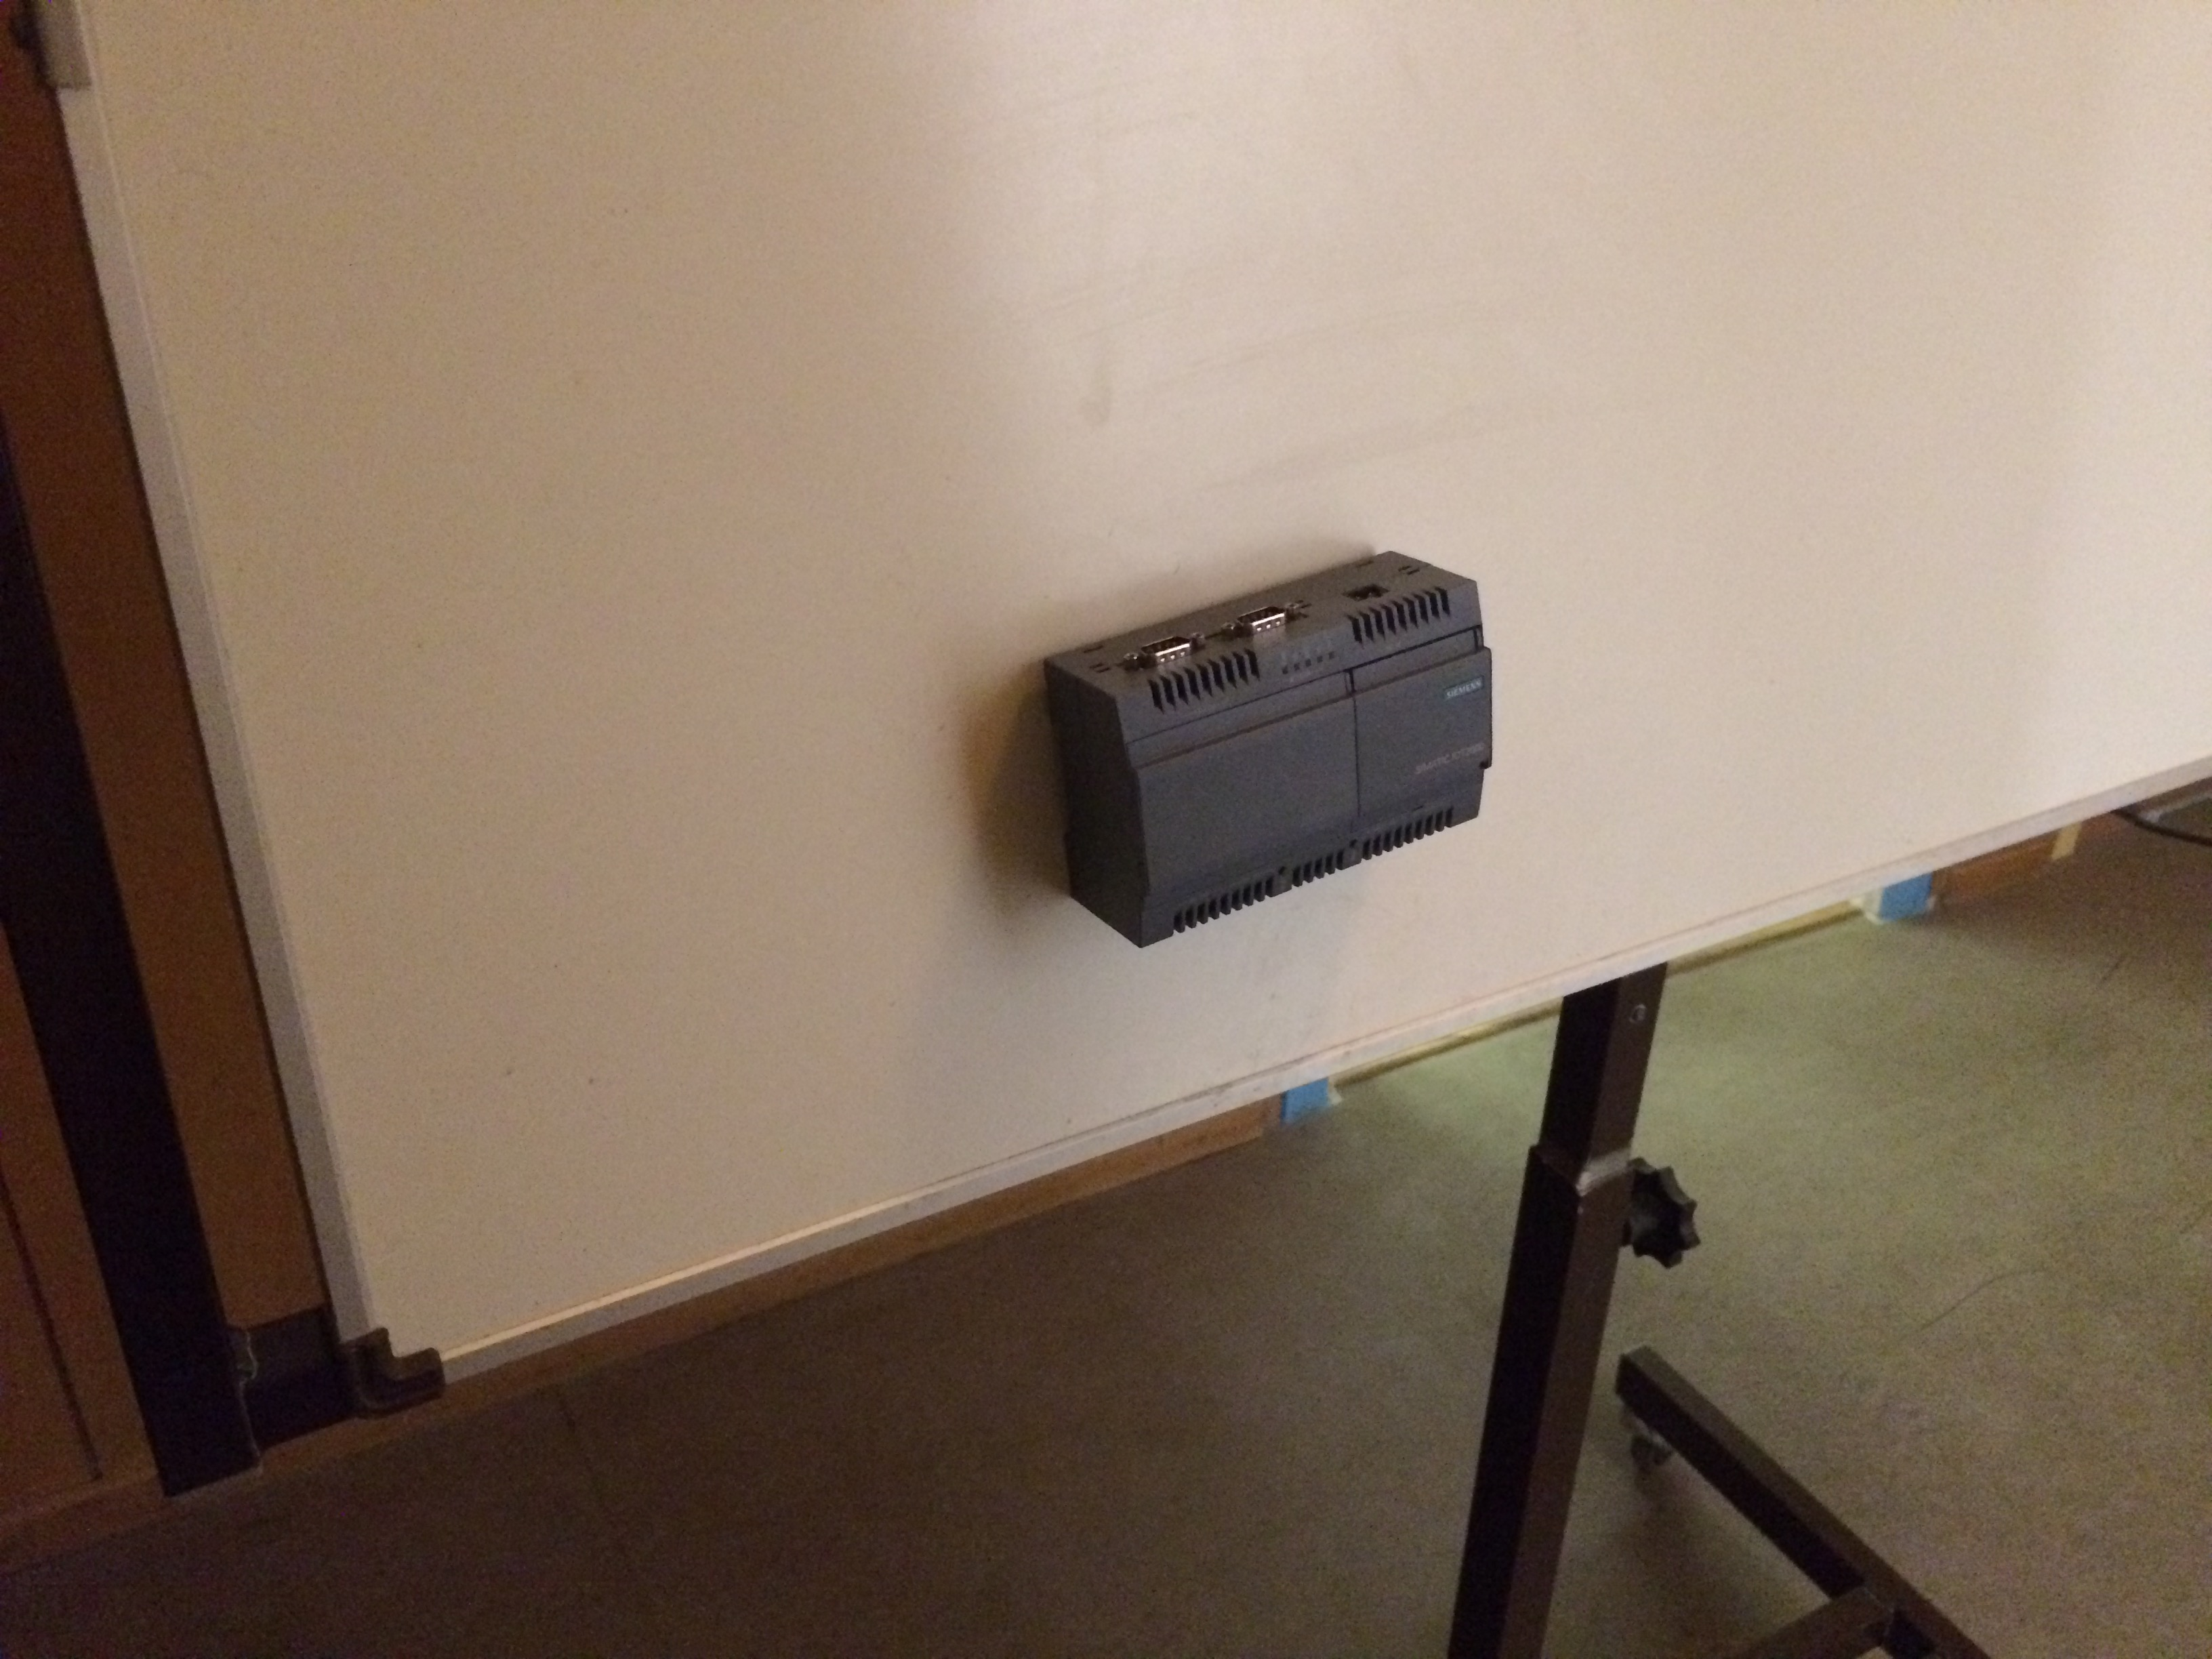iot2000: (1040, 545, 1500, 951)
